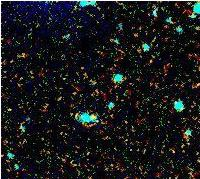star: (76, 101, 106, 131)
